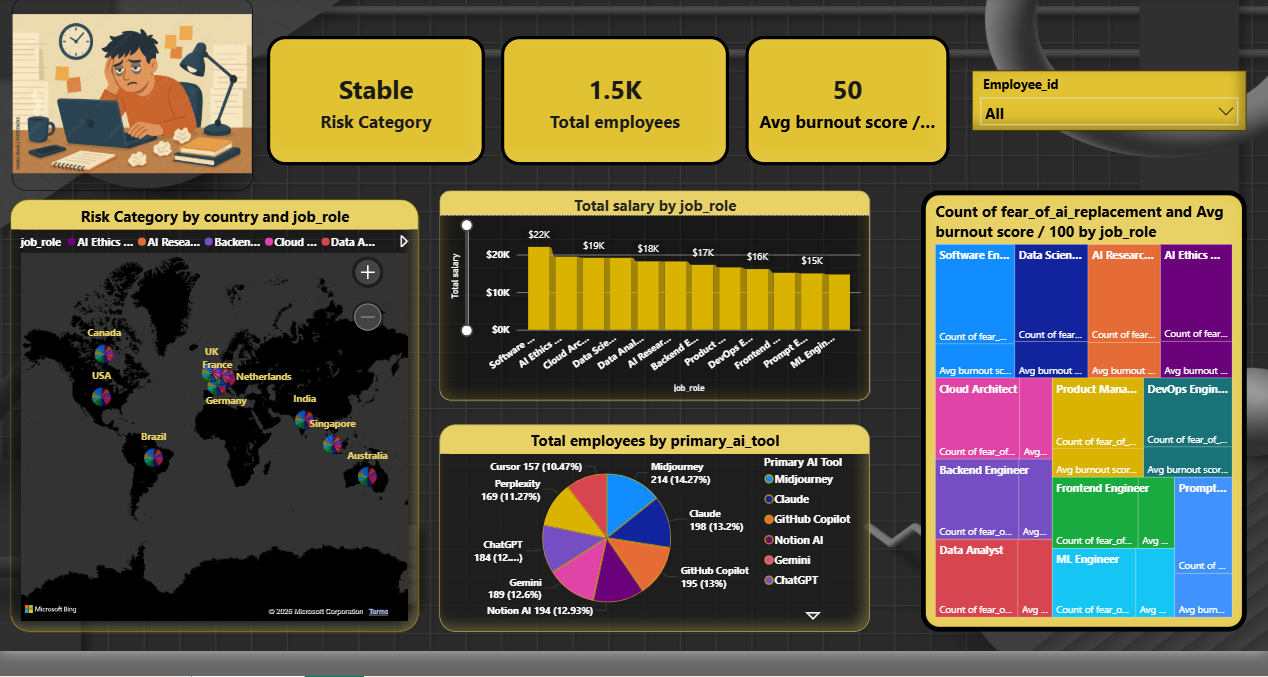

The dashboard page shown, as its layout file describes it:
{"tool":"powerbi","page":{"name":"Page 1","canvas":[1583,816],"ordinal":0},"visuals":[{"type":"image","box":[14.3,0,300.6,241.8],"z":0},{"type":"card","fields":{"Values":["Measures (2).Total employees"]},"box":[625.1,48.4,284.8,161.2],"z":1000},{"type":"columnChart","fields":{"Y":["Measures (2).Total salary"],"Category":["Dim_Job.job_role"]},"box":[548.7,241.6,537.4,262.2],"z":2000},{"type":"map","fields":{"Category":["Dim_Geography.country"],"Series":["Dim_Job.job_role"]},"box":[13.1,252.8,509.4,539.3],"z":3000},{"type":"card","fields":{"Values":["Measures (2).Avg burnout"]},"box":[930.7,48.7,254.7,161],"z":4000},{"type":"card","fields":{"Values":["Measures (2).Risk Category"]},"box":[333.1,48.4,272.2,161.2],"z":5000},{"type":"pieChart","fields":{"Category":["Dim_AI.primary_ai_tool"],"Y":["Measures (2).Total employees"]},"box":[548.7,533.7,537.4,258.4],"z":6000},{"type":"treemap","fields":{"Group":["Dim_Job.job_role"],"Values":["CountNonNull(Fact_Performance.fear_of_ai_replacement)","Measures (2).Avg burnout score / 100"]},"box":[1149.8,241.6,406.4,550.6],"z":7000},{"type":"slicer","fields":{"Values":["Dim_Employee.employee_id"]},"box":[1213.5,91.8,342.7,75],"z":8000}]}

Visuals, with their boxes in screenshot pixels (x1, y1, x2, y2):
image: box(21, 23, 259, 214)
card - Measures (2).Total employees: box(504, 61, 729, 189)
columnChart - Measures (2).Total salary x Dim_Job.job_role: box(443, 214, 868, 421)
map - Dim_Geography.country x Dim_Job.job_role: box(20, 223, 423, 649)
card - Measures (2).Avg burnout: box(745, 62, 946, 189)
card - Measures (2).Risk Category: box(273, 61, 488, 189)
pieChart - Dim_AI.primary_ai_tool x Measures (2).Total employees: box(443, 445, 868, 649)
treemap - Dim_Job.job_role x CountNonNull(Fact_Performance.fear_of_ai_replacement): box(918, 214, 1239, 649)
slicer - Dim_Employee.employee_id: box(969, 96, 1239, 155)
